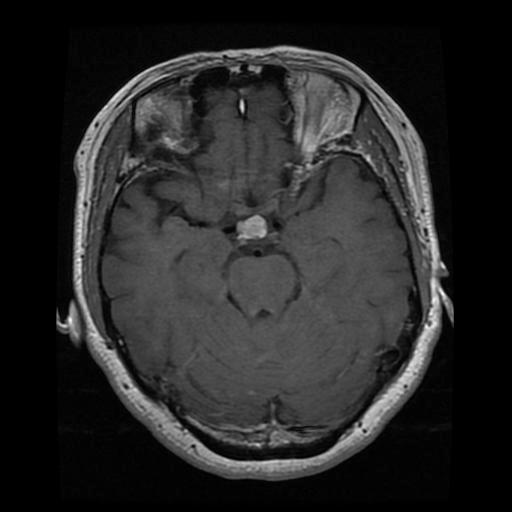Tumour-Pituitary: (234, 214, 272, 244)
